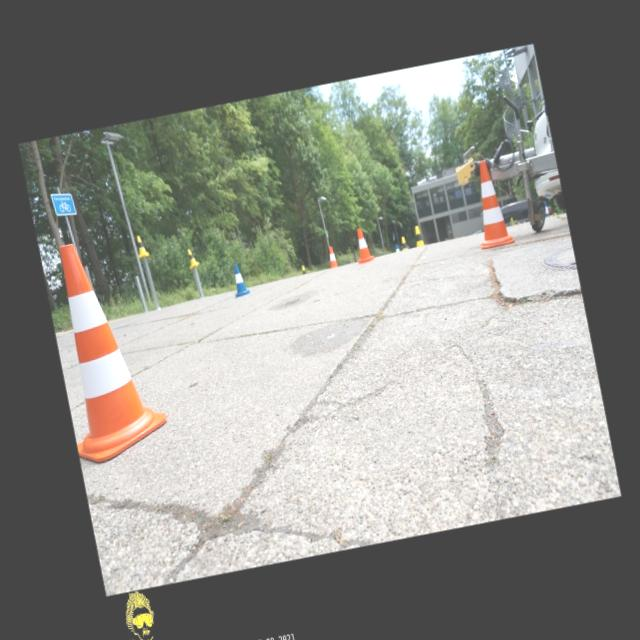blue_cone: (230, 262, 250, 296), (394, 244, 400, 252)
large_orange_cone: (39, 233, 172, 467), (465, 158, 515, 249)
orange_cone: (352, 226, 374, 264), (326, 245, 338, 268)
yellow_cone: (134, 234, 150, 258), (186, 247, 200, 269), (413, 225, 425, 247), (400, 237, 408, 250), (300, 264, 306, 274)
